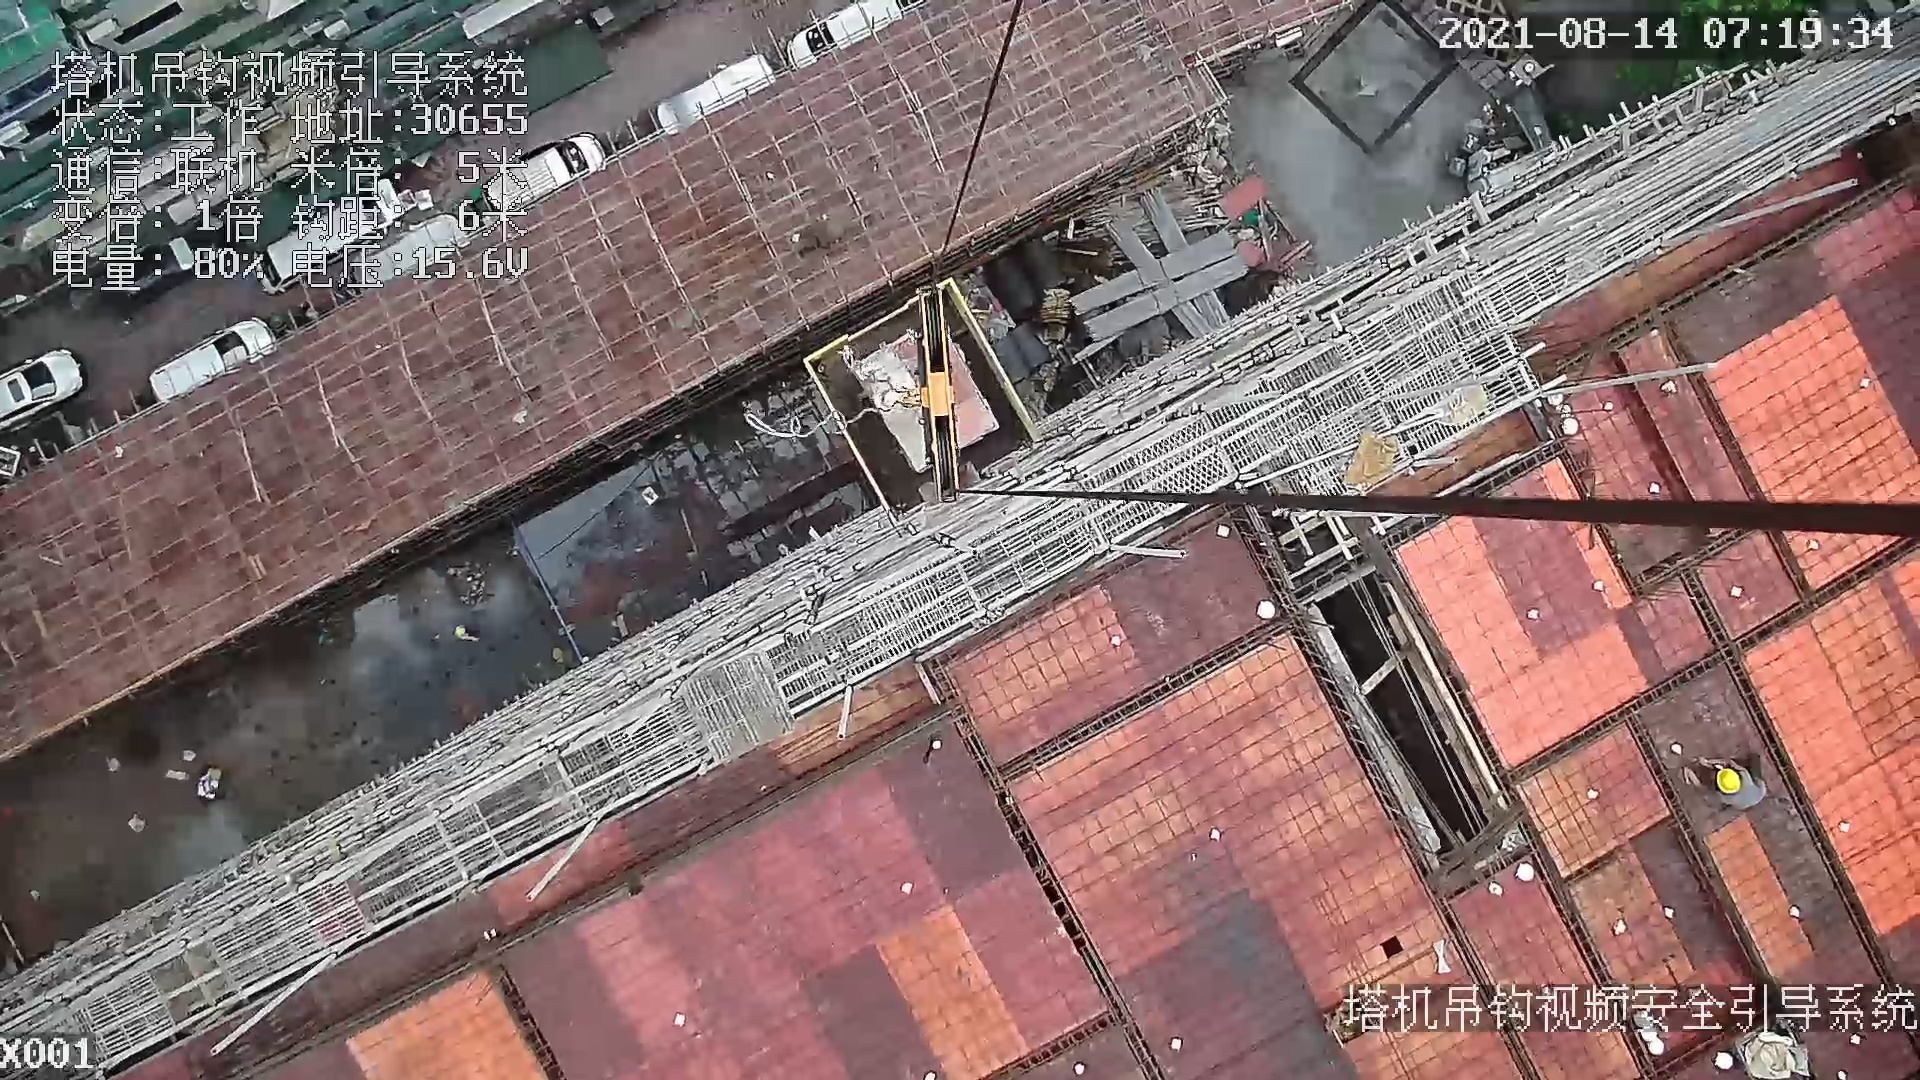helmet: (1712, 761, 1744, 800)
hook: (906, 282, 969, 501)
person: (1678, 744, 1768, 805)
